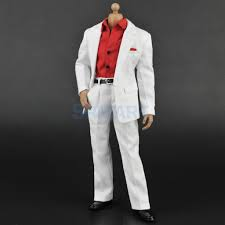F_belt: (90, 72, 129, 89)
